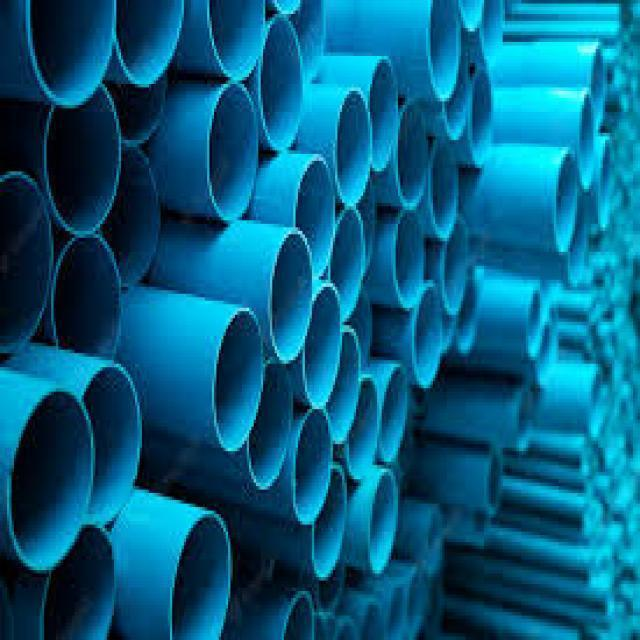pipe: (11, 389, 89, 566), (45, 82, 119, 234), (81, 362, 139, 523), (2, 172, 53, 351), (97, 143, 161, 283), (30, 2, 114, 104), (43, 525, 114, 640), (54, 235, 120, 357), (170, 512, 230, 640), (213, 310, 262, 448), (209, 82, 258, 218), (248, 362, 291, 491), (260, 20, 302, 147), (115, 3, 181, 80), (271, 230, 310, 357), (209, 1, 266, 78), (305, 284, 341, 405), (294, 408, 331, 520), (335, 90, 371, 202), (329, 205, 363, 319), (311, 469, 346, 576), (327, 329, 359, 445), (347, 374, 378, 481), (396, 99, 427, 206), (367, 58, 396, 170), (412, 282, 442, 387), (429, 0, 459, 96), (393, 211, 423, 303), (470, 63, 495, 165), (440, 221, 467, 312), (554, 150, 578, 250), (368, 472, 394, 564), (456, 261, 481, 353), (430, 148, 455, 233), (380, 370, 404, 457), (444, 52, 468, 136), (568, 194, 588, 281), (579, 94, 595, 187), (599, 137, 615, 230), (485, 442, 502, 512), (524, 288, 541, 356), (407, 569, 425, 631), (592, 45, 605, 127), (515, 384, 532, 445), (538, 324, 553, 385), (589, 371, 602, 433)
